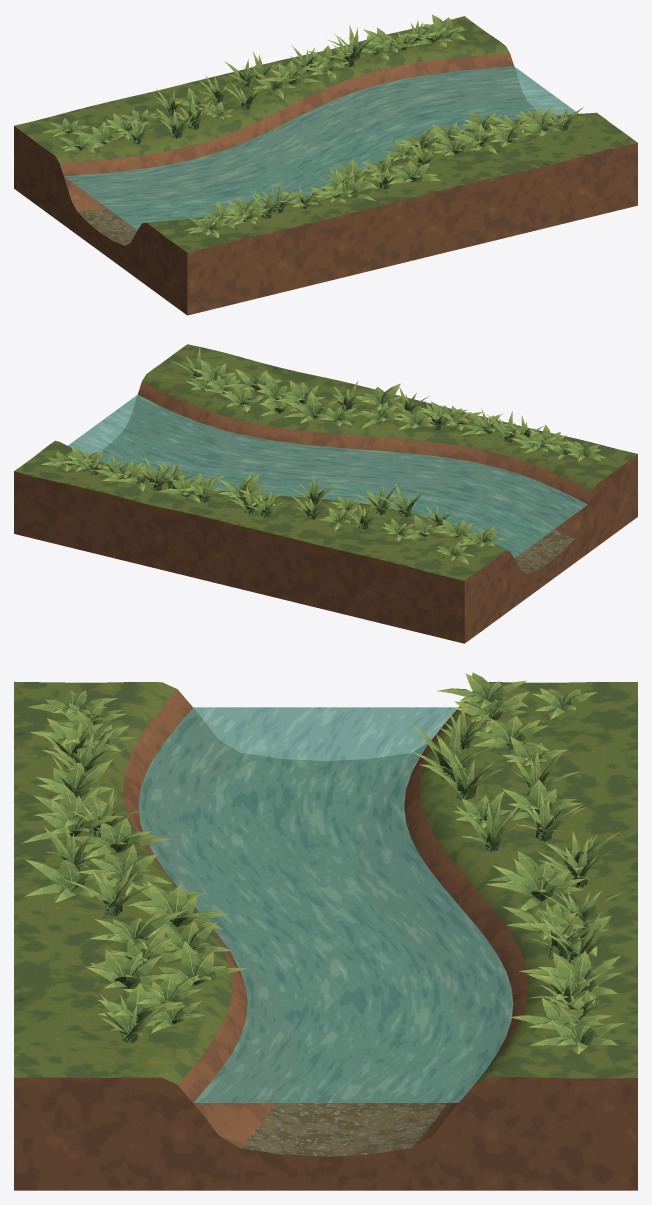
File: stream_channel.glb
3 renders of one model, top to bottom at view 1: azimuth 30°, elevation 25°; view 2: azimuth 150°, elevation 25°; view 3: azimuth 270°, elevation 25°, orthographic. The views are drawn at different scales.
Parts seen in each view (by area): view 1: stream_channel_left_bank, stream_channel_right_bank, stream_channel_water_plane, stream_channel_bank_vegetation, stream_channel_streambed; view 2: stream_channel_right_bank, stream_channel_left_bank, stream_channel_water_plane, stream_channel_bank_vegetation, stream_channel_streambed; view 3: stream_channel_water_plane, stream_channel_right_bank, stream_channel_left_bank, stream_channel_streambed, stream_channel_bank_vegetation.
Boxes of the visible parts, bbox=[...] form: stream_channel_left_bank: bbox=[124, 112, 637, 315]; stream_channel_right_bank: bbox=[14, 16, 526, 234]; stream_channel_water_plane: bbox=[64, 66, 578, 229]; stream_channel_bank_vegetation: bbox=[42, 14, 585, 238]; stream_channel_streambed: bbox=[77, 102, 535, 269]; stream_channel_right_bank: bbox=[14, 440, 527, 643]; stream_channel_left_bank: bbox=[125, 344, 637, 562]; stream_channel_water_plane: bbox=[68, 394, 587, 558]; stream_channel_bank_vegetation: bbox=[41, 346, 604, 564]; stream_channel_streambed: bbox=[99, 430, 574, 597]; stream_channel_water_plane: bbox=[138, 707, 513, 1102]; stream_channel_right_bank: bbox=[358, 682, 637, 1190]; stream_channel_left_bank: bbox=[14, 681, 293, 1190]; stream_channel_streambed: bbox=[186, 753, 465, 1190]; stream_channel_bank_vegetation: bbox=[22, 672, 624, 1054].
Size of what is drawn, in the model's own units: 6 by 1.16 by 4.
5 materials, 5 textured.
